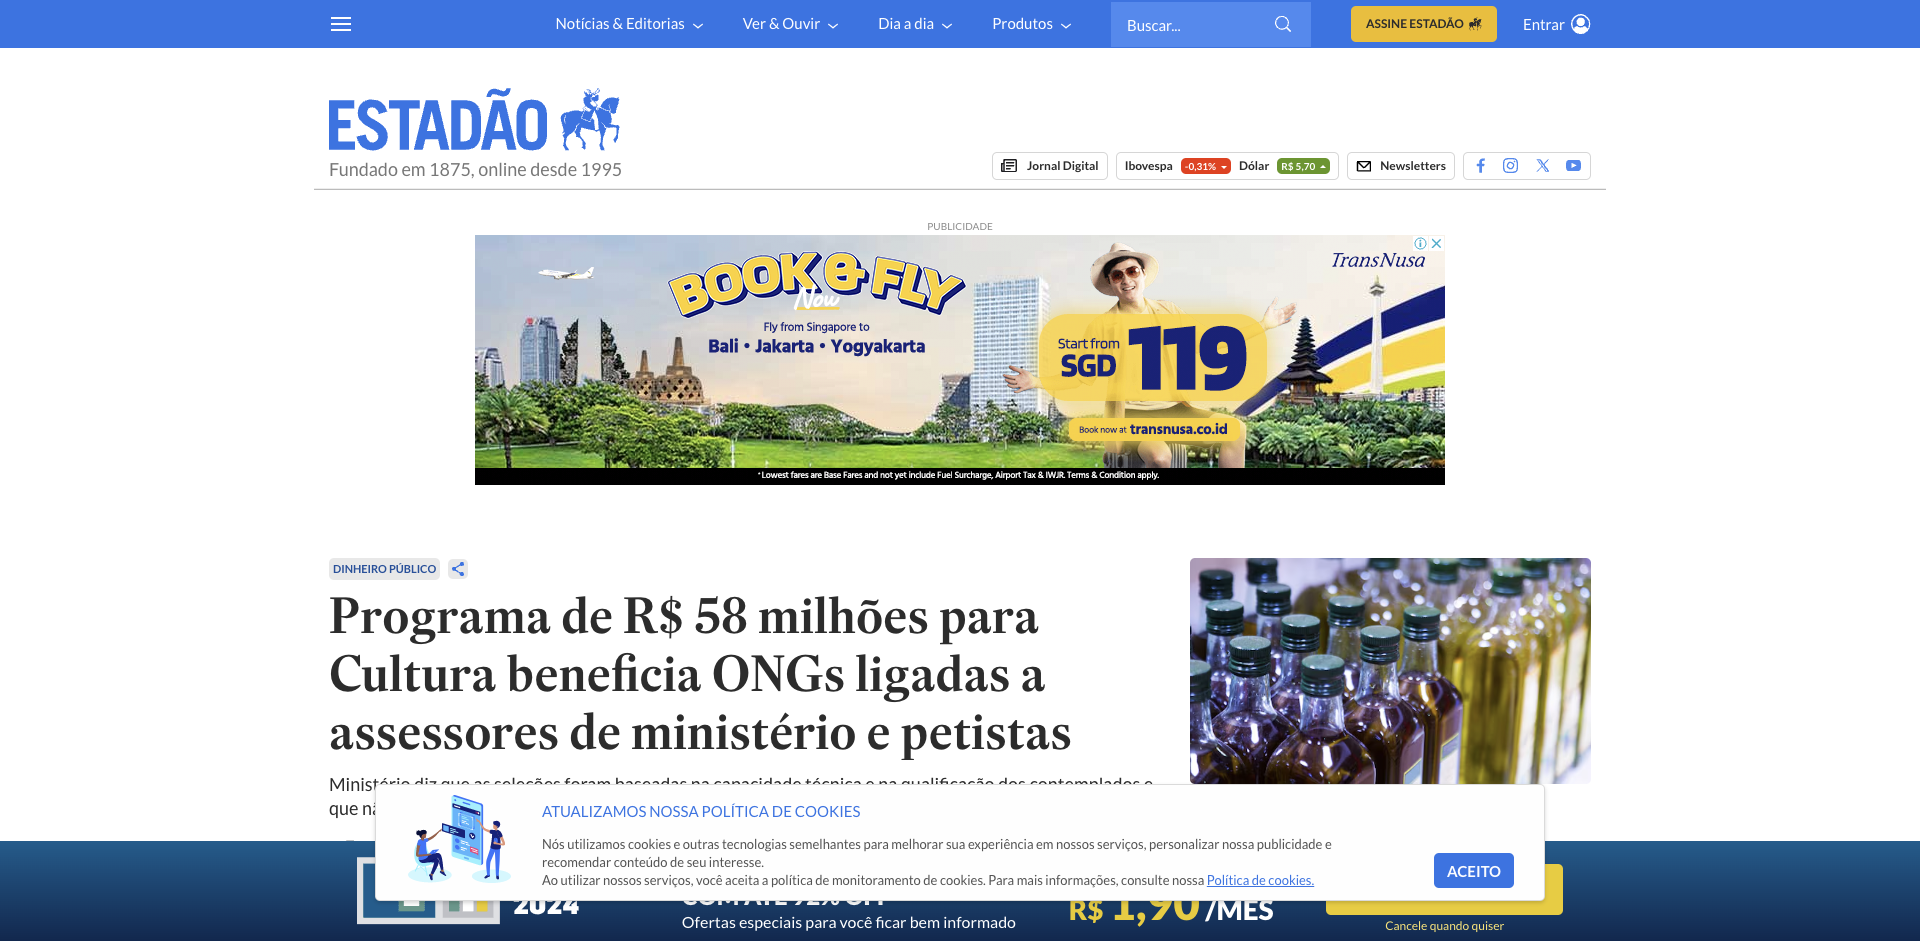button: (1326, 864, 1562, 914), (1351, 6, 1498, 42), (1397, 876, 1491, 903), (317, 0, 365, 48), (1275, 15, 1296, 34)
input: (1127, 15, 1275, 34)
link: (329, 586, 1161, 820), (1190, 557, 1591, 784), (1190, 827, 1591, 894), (329, 88, 622, 180), (754, 834, 1161, 882), (329, 834, 735, 882), (1190, 898, 1591, 941), (754, 903, 1161, 941), (329, 903, 735, 941), (1357, 152, 1446, 180), (329, 557, 441, 580), (1124, 158, 1231, 174), (1517, 13, 1591, 34), (1239, 158, 1330, 174), (1002, 158, 1098, 173), (1190, 796, 1234, 818), (1472, 153, 1487, 178), (1565, 158, 1582, 173), (1502, 158, 1518, 173), (1534, 158, 1549, 173)
